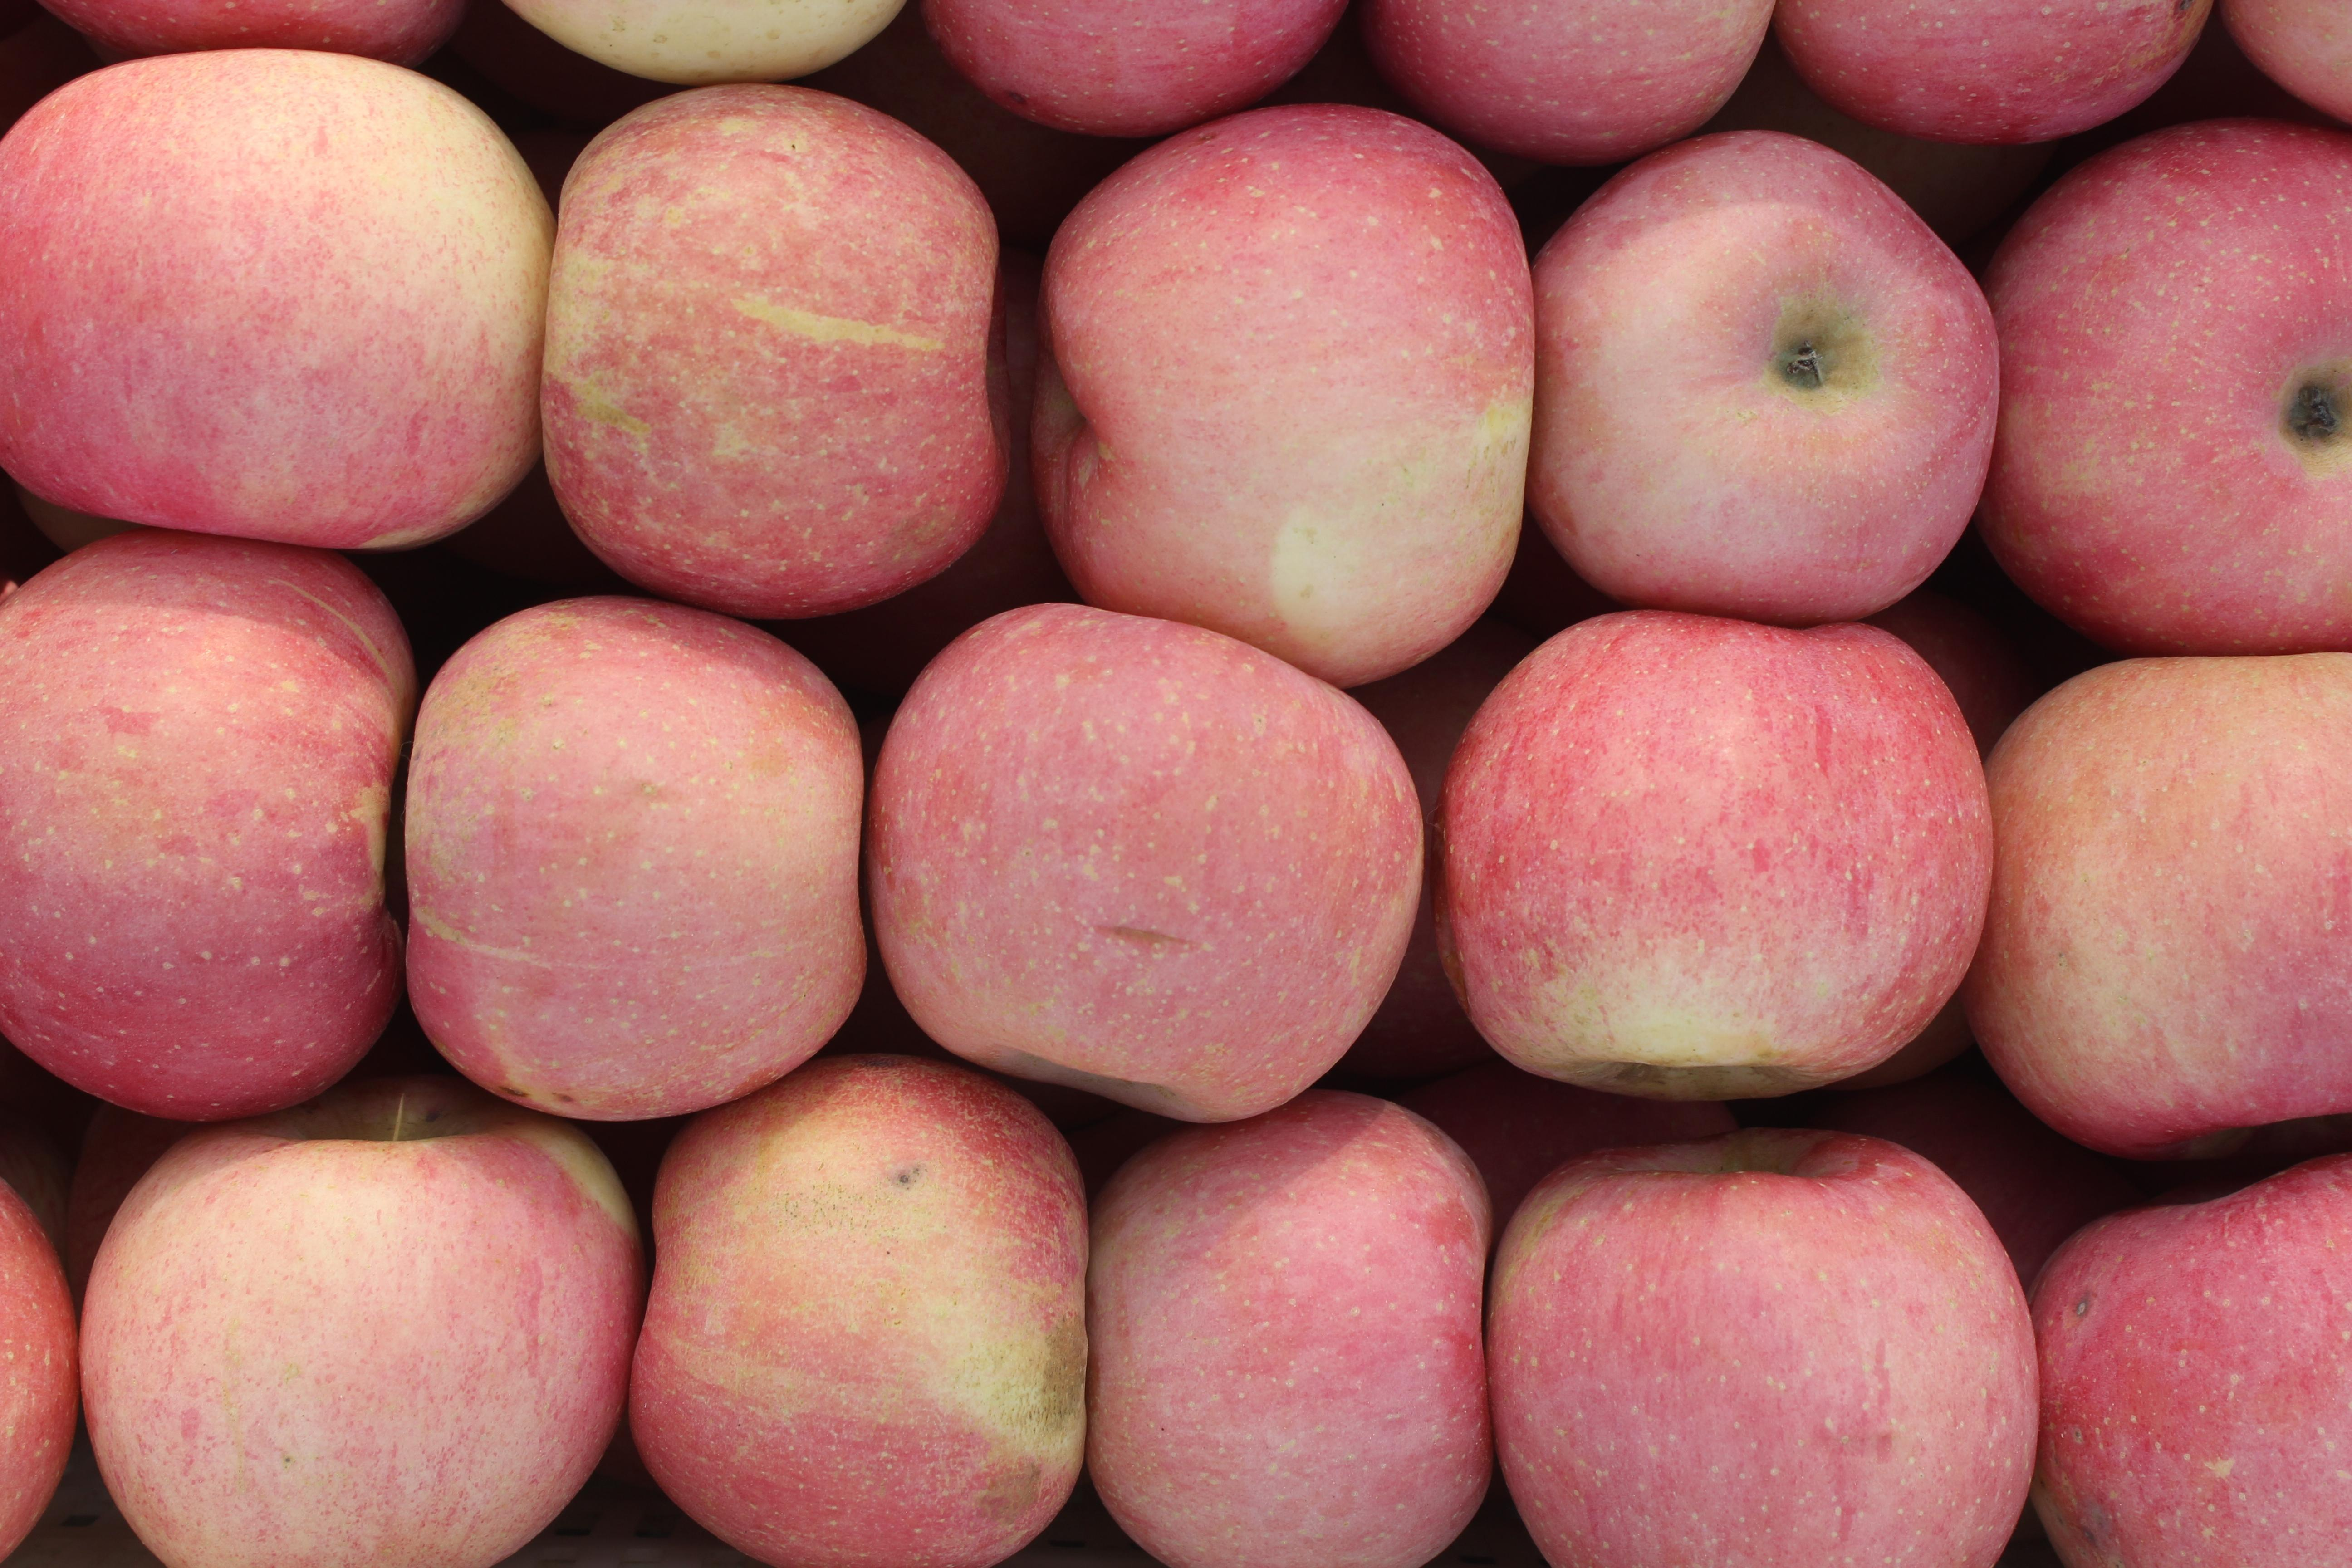apple: (884, 602, 1442, 1129), (1416, 598, 1981, 1118), (1034, 105, 1535, 681), (0, 35, 549, 549), (532, 70, 1020, 618), (65, 1106, 644, 1554), (390, 591, 866, 1123), (1479, 1122, 2041, 1564), (0, 527, 413, 1118), (621, 1053, 1094, 1554), (1535, 131, 2002, 626), (1976, 110, 2352, 656), (1967, 642, 2347, 1167), (1071, 1085, 1493, 1552), (2028, 1158, 2349, 1563)
